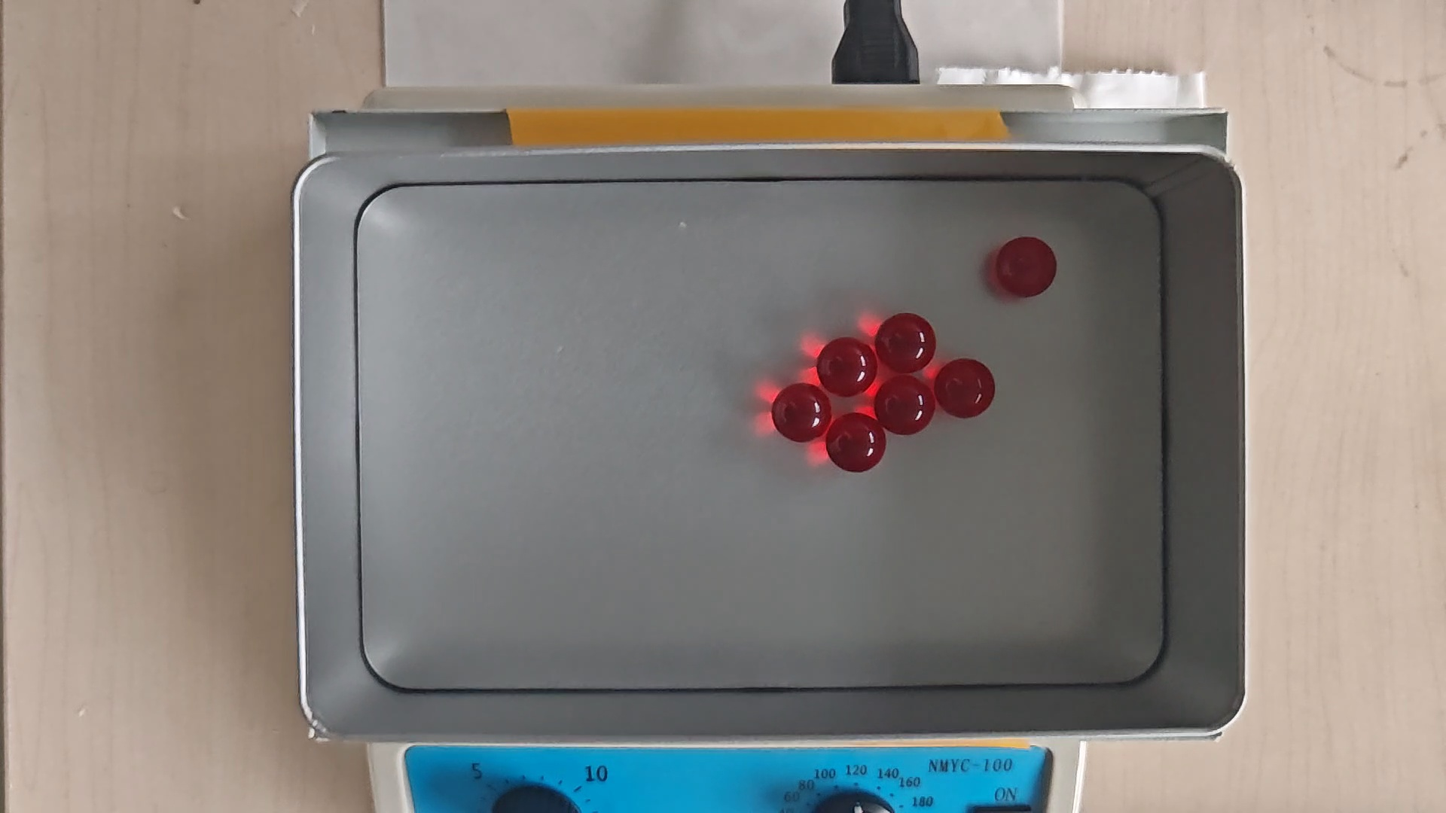ball: (934, 358, 994, 418), (877, 312, 936, 373), (817, 335, 875, 396), (772, 383, 830, 443), (998, 236, 1055, 297), (828, 413, 884, 472), (878, 375, 932, 435)
container: (351, 179, 1164, 687)
